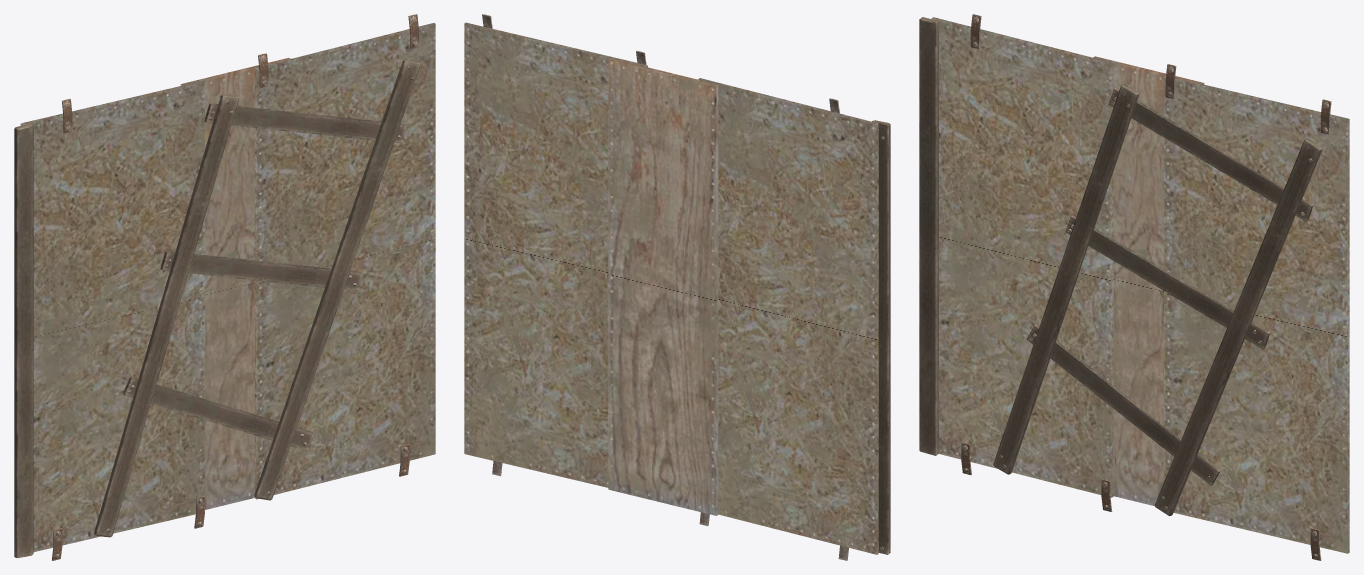
Rendered from plywood_boarding_300_b.glb.
The picture shows the model from 3 angles, left to right: view 1: azimuth 30°, elevation 25°; view 2: azimuth 150°, elevation 25°; view 3: azimuth 330°, elevation 25°; orthographic projection.
Parts seen in each view (by area): view 1: plywood_boarding_300_b; view 2: plywood_boarding_300_b; view 3: plywood_boarding_300_b.
Part boxes in pixels (x1,y1,x2,y2): plywood_boarding_300_b: (14,14,435,560); plywood_boarding_300_b: (464,14,890,560); plywood_boarding_300_b: (919,14,1349,560).
Bounding box in the file's own units: 3.06 × 3.17 × 0.1105.
Materials: 1 (1 with a texture image).
